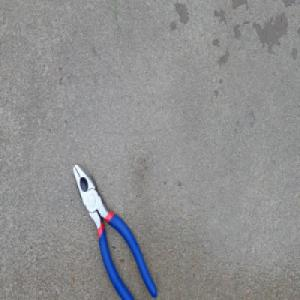Pliers: (72, 162, 158, 300)
